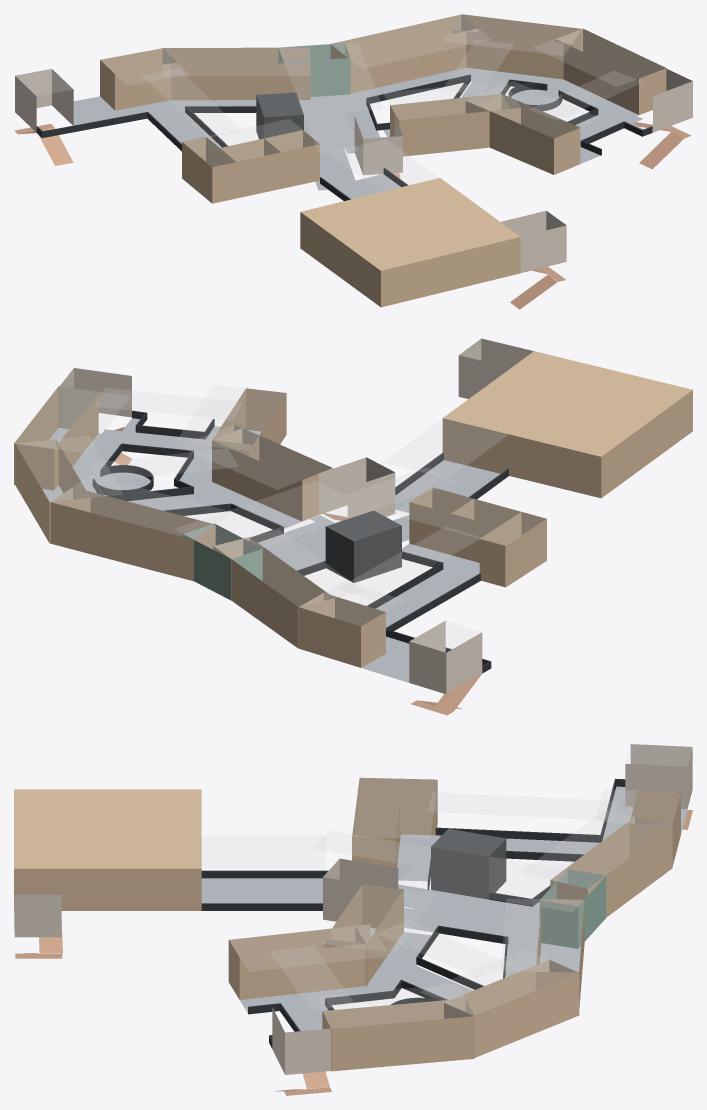
The picture shows the model from 3 angles, top to bottom: view 1: azimuth 30°, elevation 25°; view 2: azimuth 150°, elevation 25°; view 3: azimuth 270°, elevation 25°; orthographic projection. The views are drawn at different scales.
Visible parts, largest first — view 1: 立方體.034, 立方體.033, 立方體.130, 立方體.005, 立方體.120, 立方體.010, 立方體.004, 立方體.126, 立方體.054, 立方體.014, 立方體.002, 立方體.008 (+43 smaller); view 2: 立方體.034, 立方體.005, 立方體.016, 立方體.033, 立方體.010, 立方體.004, 立方體.136, 立方體.054, 丁棟5F.001, 立方體.007, 立方體.008, 立方體.002 (+44 smaller); view 3: 立方體.034, 立方體.130, 立方體.005, 立方體.138, 立方體.010, 立方體.004, 立方體.033, 丁棟5F.001, 立方體.007, 立方體.002, 立方體.008, 立方體.023 (+40 smaller).
Part boxes in pixels (<box>): 立方體.034: <box>300,178,520,307</box>; 立方體.033: <box>162,47,310,100</box>; 立方體.130: <box>555,28,666,114</box>; 立方體.005: <box>279,43,382,114</box>; 立方體.120: <box>330,15,478,93</box>; 立方體.010: <box>163,48,309,75</box>; 立方體.004: <box>332,15,490,68</box>; 立方體.126: <box>451,14,582,79</box>; 立方體.054: <box>100,48,176,110</box>; 立方體.014: <box>399,108,520,156</box>; 立方體.002: <box>534,29,664,86</box>; 立方體.008: <box>468,81,600,137</box>; 立方體.034: <box>442,351,692,498</box>; 立方體.005: <box>175,481,372,558</box>; 立方體.016: <box>50,502,193,580</box>; 立方體.033: <box>213,537,334,648</box>; 立方體.010: <box>214,530,362,606</box>; 立方體.004: <box>52,475,232,538</box>; 立方體.136: <box>212,428,332,521</box>; 立方體.054: <box>299,593,385,667</box>; 丁棟5F.001: <box>16,436,122,501</box>; 立方體.007: <box>180,425,330,489</box>; 立方體.008: <box>176,385,285,450</box>; 立方體.002: <box>15,387,130,452</box>; 立方體.034: <box>14,789,201,910</box>; 立方體.130: <box>322,998,474,1071</box>; 立方體.005: <box>398,847,604,911</box>; 立方體.138: <box>228,927,365,999</box>; 立方體.010: <box>521,810,670,888</box>; 立方體.004: <box>501,899,583,971</box>; 立方體.033: <box>550,817,672,917</box>; 丁棟5F.001: <box>421,949,577,1014</box>; 立方體.007: <box>322,885,436,952</box>; 立方體.002: <box>316,984,473,1028</box>; 立方體.008: <box>229,925,389,970</box>; 立方體.023: <box>404,889,539,948</box>.
Size of the model in its own units: 43.73 by 6 by 43.39.
